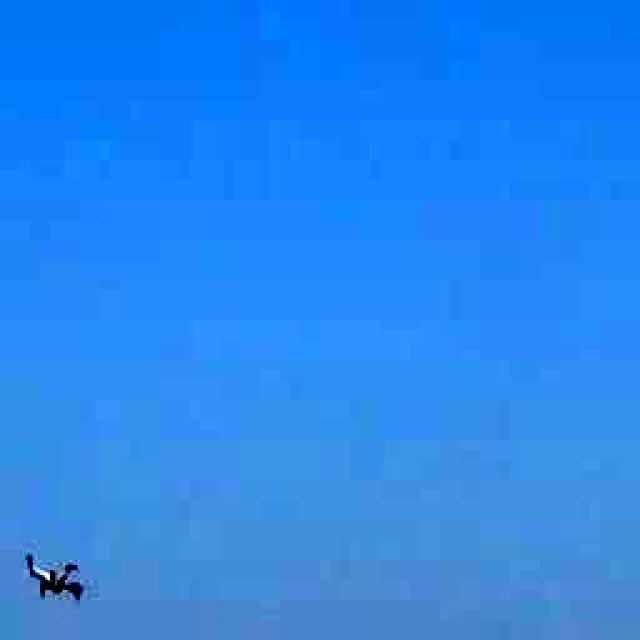bird: (0, 534, 119, 624)
